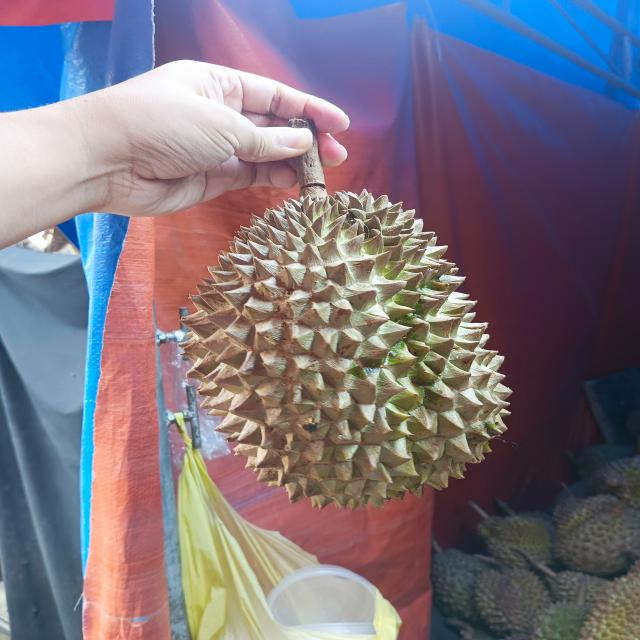mature: (181, 119, 511, 509)
